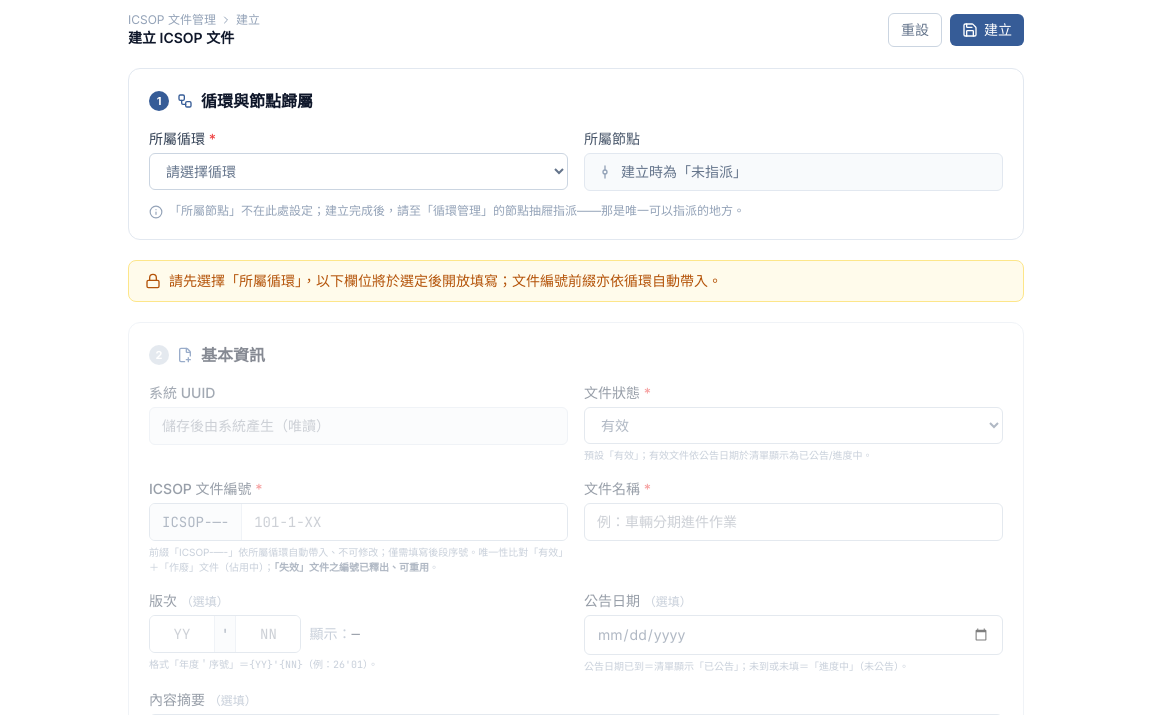
Test: F011 AC-D2～AC-D5（建立頁）：版次輸入互動，逐案與編輯頁相同 › TS-F010-D2-001 序號框依序鍵入 `0`、`1` → value 依序為 "0"、"01"
Type "0" into the field named "版次序號" at [268, 634], box 236,616 -> 300,652
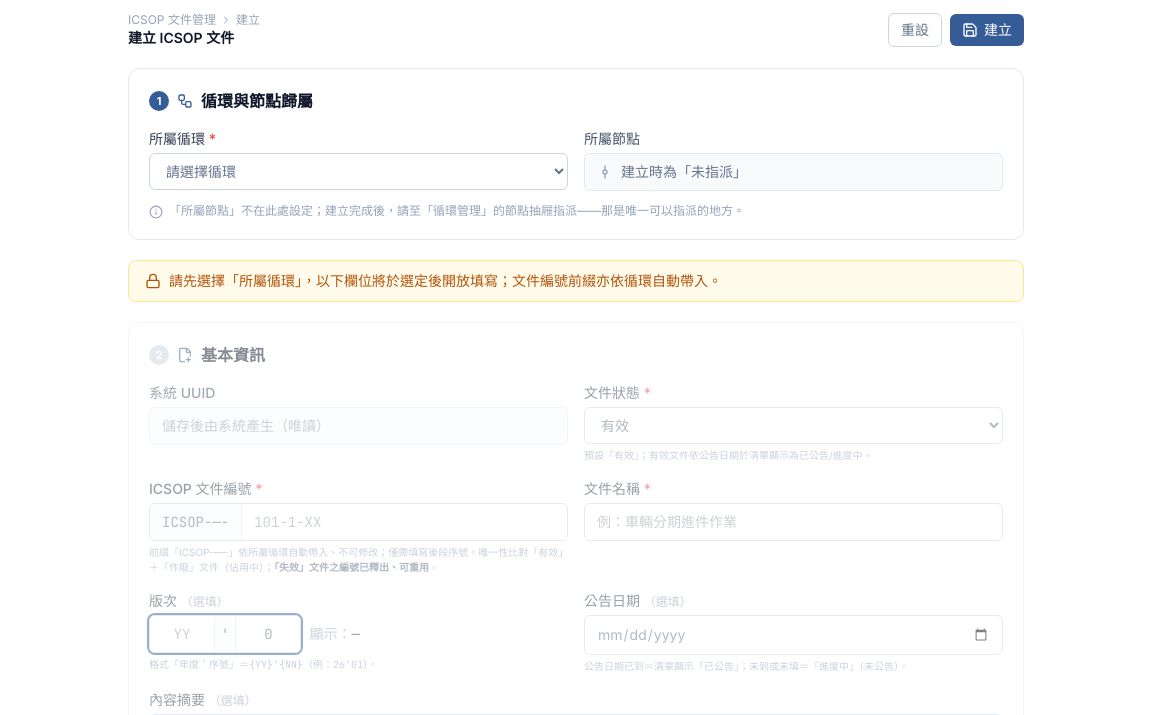
Type "1" into the field named "版次序號" at [268, 634], box 236,616 -> 300,652
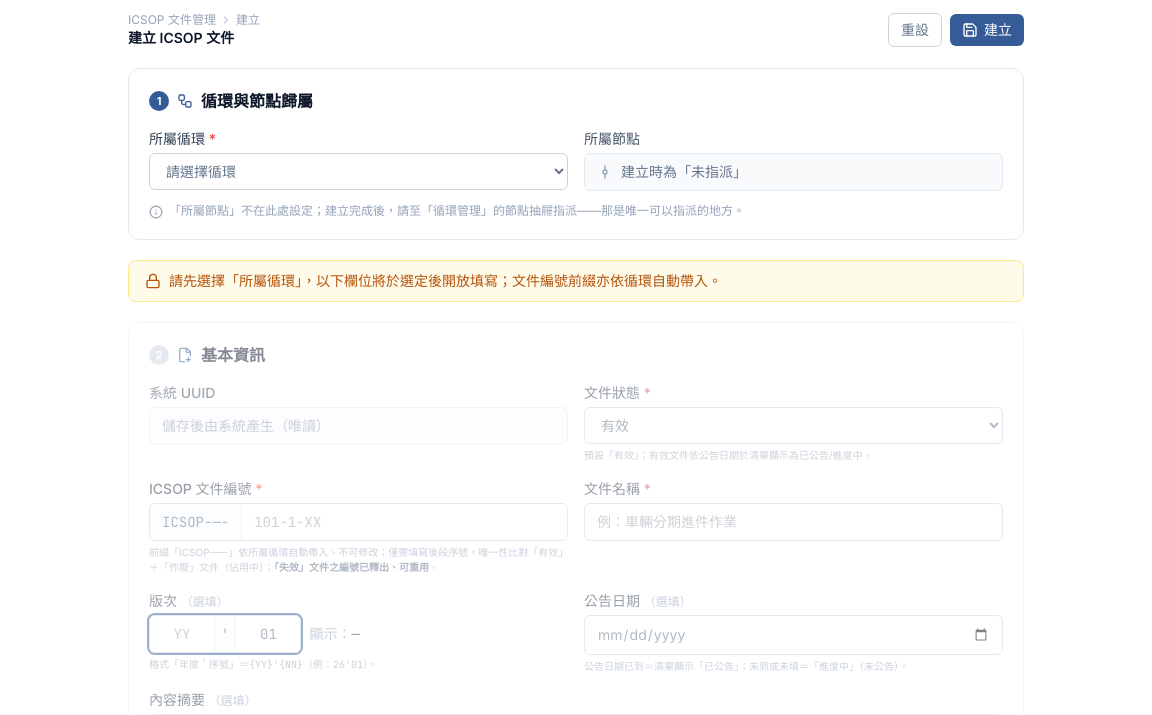
Expected: the field named "版次序號" holds "01", 236,616 -> 300,652
